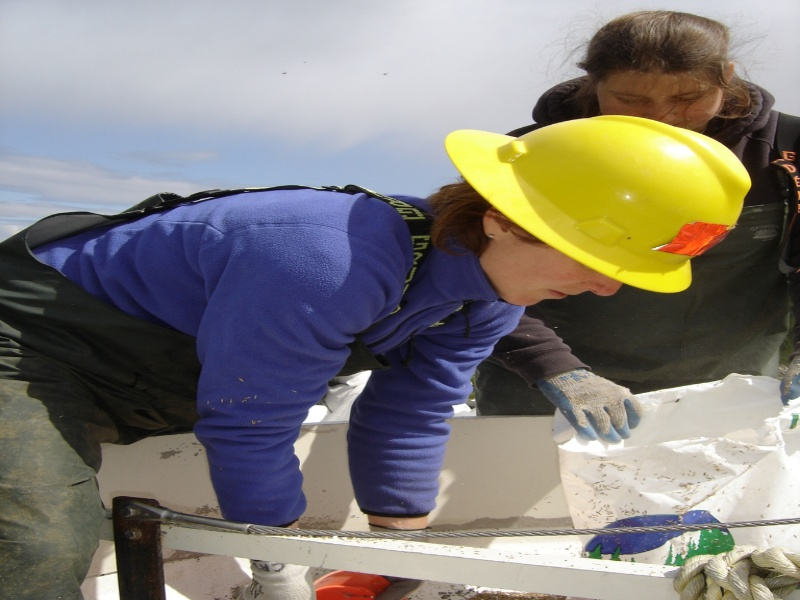Baret: (446, 114, 752, 295)
